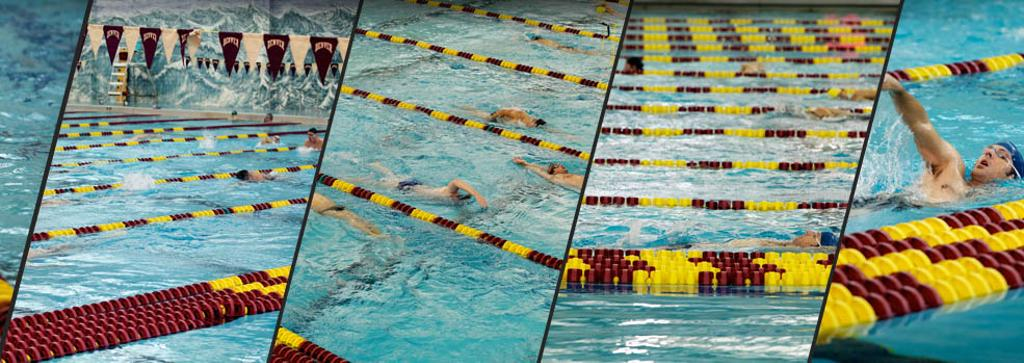face: (966, 130, 1024, 176)
